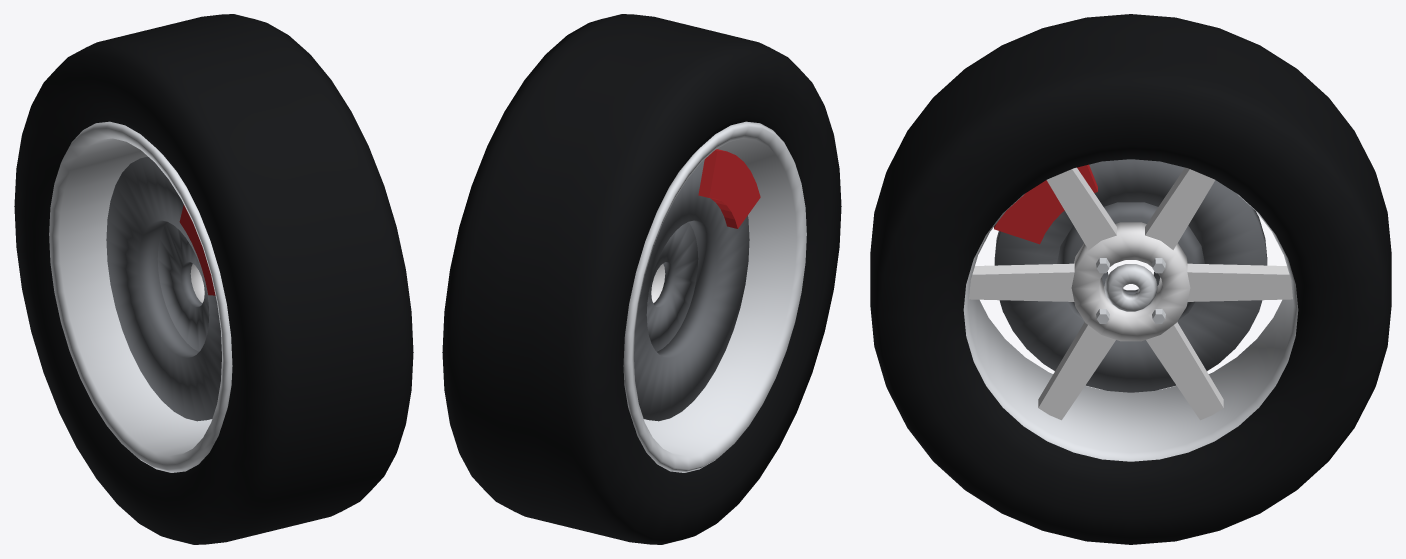
File: w06_deep6_17.glb
3 renders of one model, left to right at view 1: azimuth 30°, elevation 25°; view 2: azimuth 150°, elevation 25°; view 3: azimuth 270°, elevation 25°, orthographic.
Visible parts, largest first — view 1: wheel, brake; view 2: wheel, brake; view 3: wheel, brake.
Part boxes in pixels (left/top/right/bottom): wheel: left=14, top=14, right=413, bottom=544; brake: left=106, top=156, right=221, bottom=421; wheel: left=442, top=14, right=841, bottom=544; brake: left=634, top=149, right=760, bottom=421; wheel: left=870, top=14, right=1391, bottom=544; brake: left=994, top=159, right=1267, bottom=392.
Size of what is drawn, in the model's own units: 0.235 by 0.66 by 0.66.
